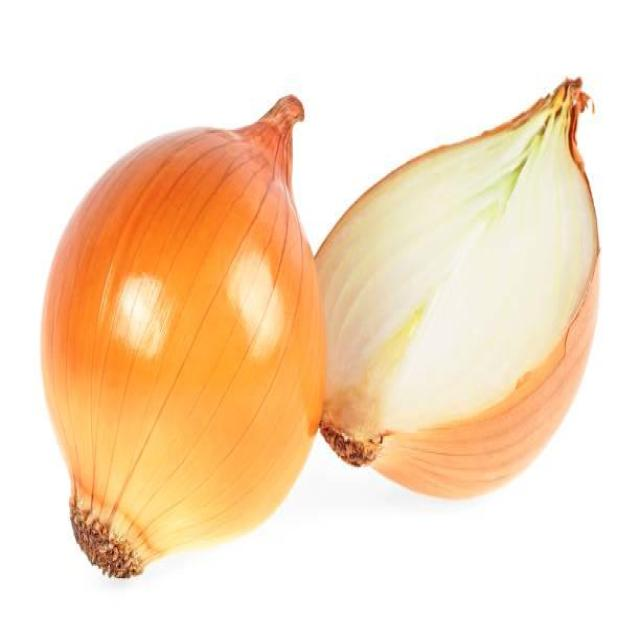Onion: (43, 96, 323, 577), (321, 79, 598, 496)
